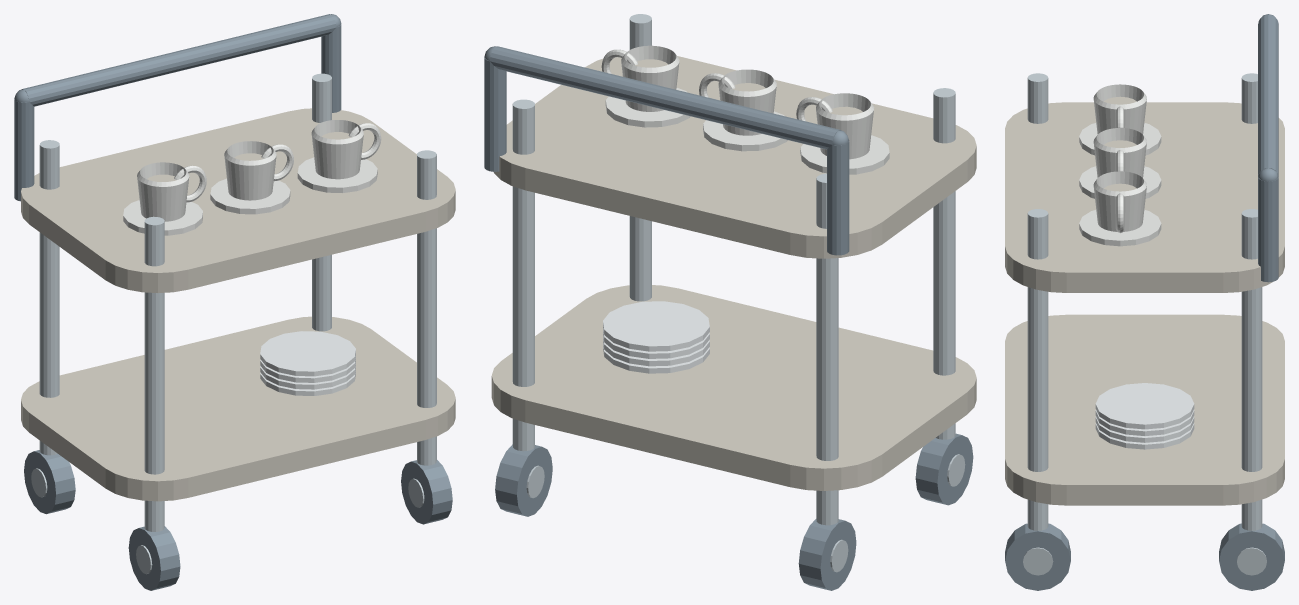
File: restaurant_service_cart.glb
3 renders of one model, left to right at view 1: azimuth 30°, elevation 25°; view 2: azimuth 150°, elevation 25°; view 3: azimuth 270°, elevation 25°, orthographic. The views are drawn at different scales.
Parts seen in each view (by area): view 1: decor_aaa493_matte, decor_9aadb8_metal, decor_455665_metal, decor_d8dcd8_matte, decor_d4dfe3_matte; view 2: decor_aaa493_matte, decor_9aadb8_metal, decor_455665_metal, decor_d8dcd8_matte, decor_d4dfe3_matte; view 3: decor_aaa493_matte, decor_9aadb8_metal, decor_455665_metal, decor_d8dcd8_matte, decor_d4dfe3_matte.
Part boxes in pixels (box(x1,y1,x2,y2)): decor_aaa493_matte: box(21, 108, 455, 501); decor_9aadb8_metal: box(31, 73, 436, 574); decor_455665_metal: box(14, 14, 452, 590); decor_d8dcd8_matte: box(123, 120, 381, 235); decor_d4dfe3_matte: box(260, 331, 355, 395); decor_aaa493_matte: box(491, 56, 976, 490); decor_9aadb8_metal: box(512, 14, 965, 572); decor_455665_metal: box(484, 46, 973, 590); decor_d8dcd8_matte: box(601, 45, 889, 174); decor_d4dfe3_matte: box(603, 301, 709, 373); decor_aaa493_matte: box(1005, 96, 1284, 505); decor_9aadb8_metal: box(1023, 73, 1266, 575); decor_455665_metal: box(1005, 14, 1284, 590); decor_d8dcd8_matte: box(1079, 84, 1161, 246); decor_d4dfe3_matte: box(1095, 383, 1194, 449).
Bounding box in the file's own units: 0.98 × 1.14 × 0.68.
